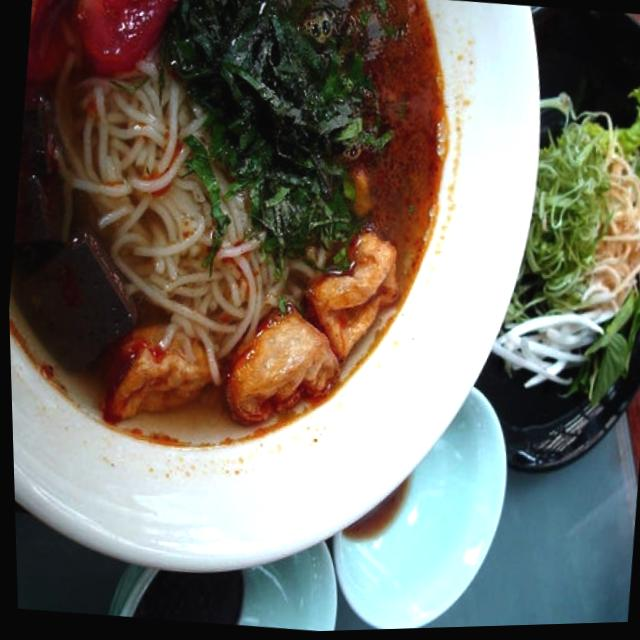面条主食: (0, 0, 574, 613)
